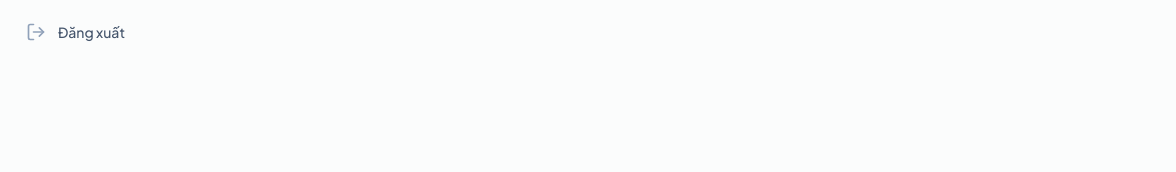
Test case: restores the session, applies refreshed bearer tokens, and clears the token on logout
Click the button "Đăng xuất": (91, 32) [12,12,1164,52]
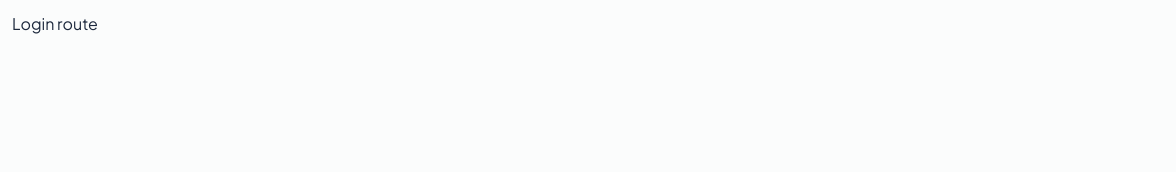
Check: the text "Login route" is shown, box [12,13,98,34]
